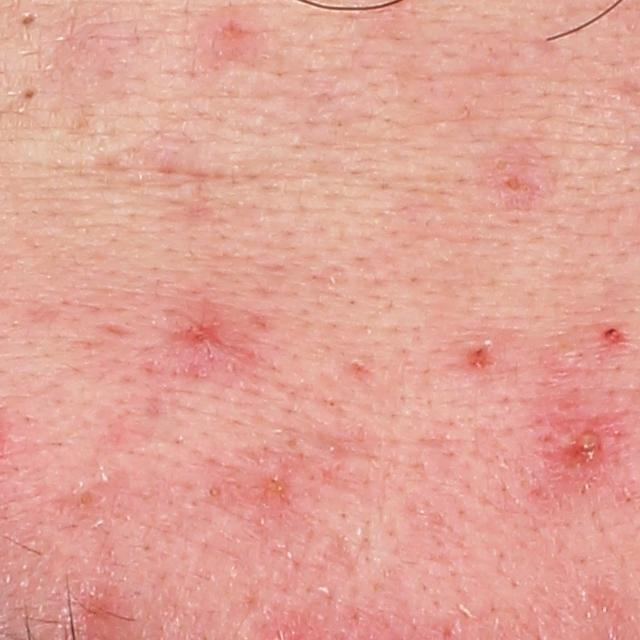comedo: (12, 8, 42, 35), (18, 81, 41, 103), (207, 482, 224, 498)
papule: (168, 316, 229, 373), (496, 148, 541, 206), (206, 14, 245, 63), (462, 339, 499, 376), (594, 324, 630, 353)
pustule: (534, 407, 603, 474)
